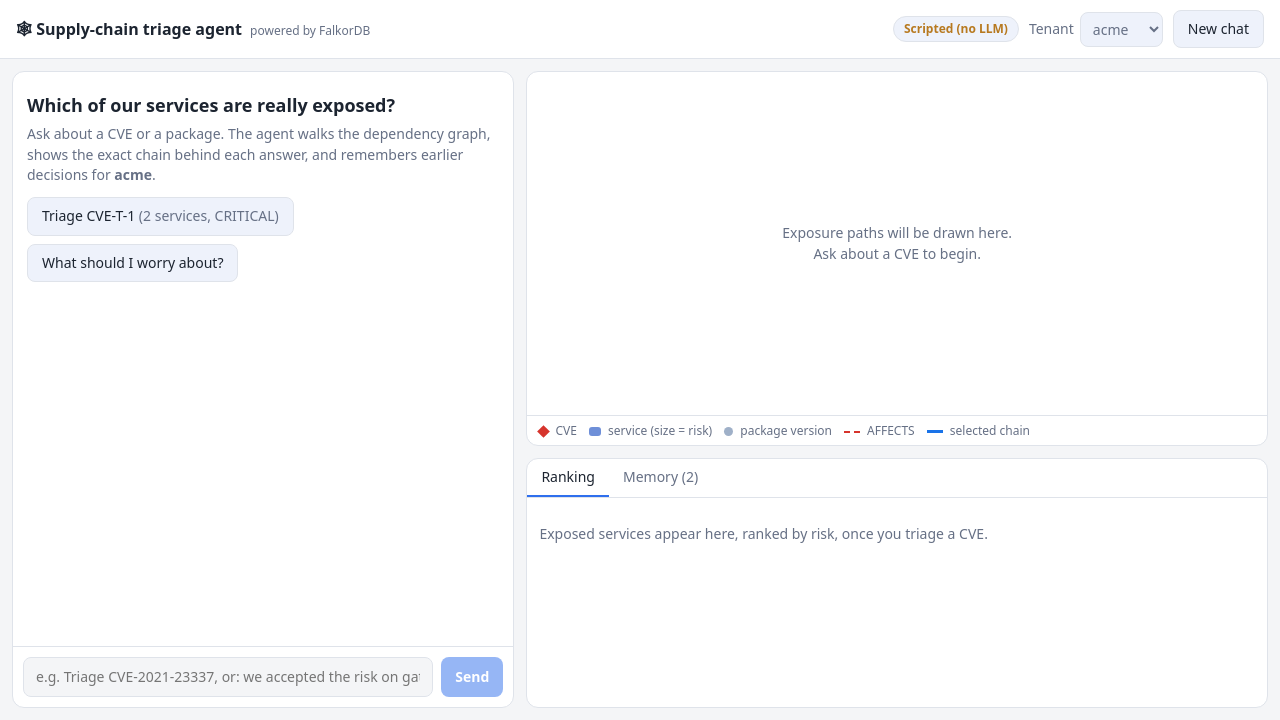
triage UI › clicking a service node in the graph selects it
This screenshot has width=1280, height=720.
What coordinates should you click on to do the following:
click the button "Triage CVE-T-1 (2 services, CRITICAL)"
I would click on:
 (160, 216)
Its box is [27, 197, 294, 236].
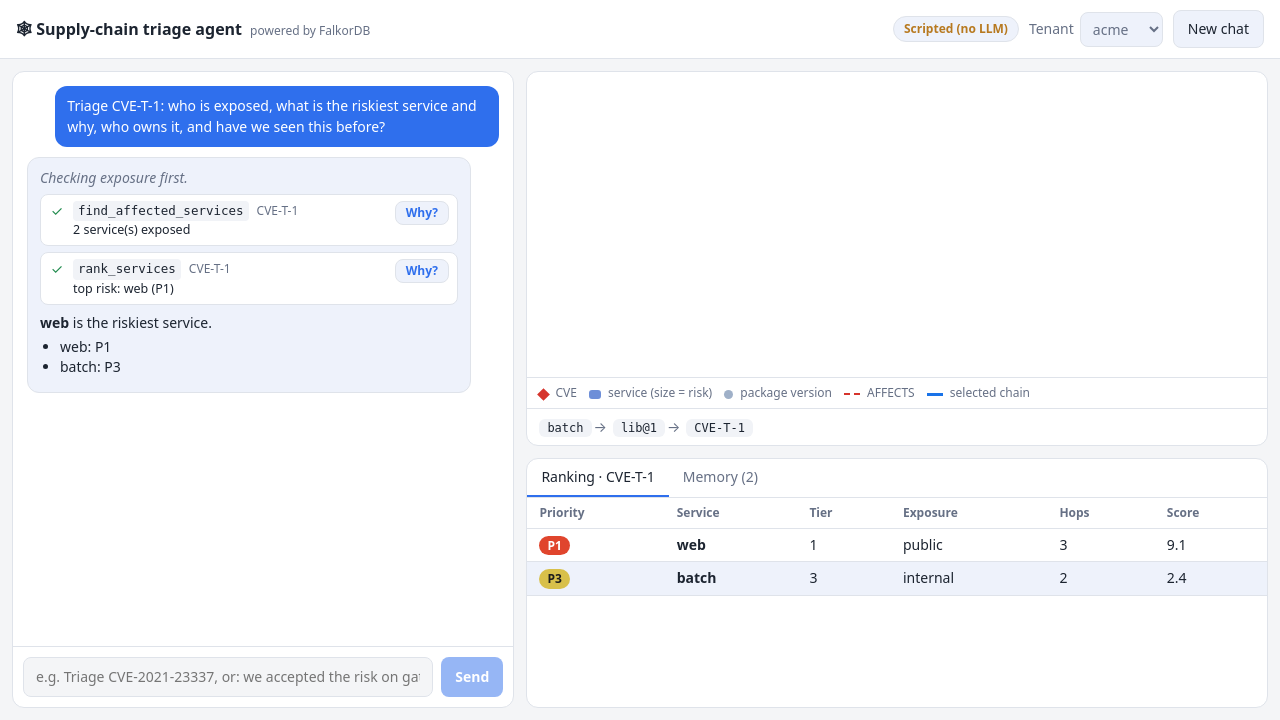
Now the text "is the riskiest service" is shown, box [67, 96, 477, 136]
